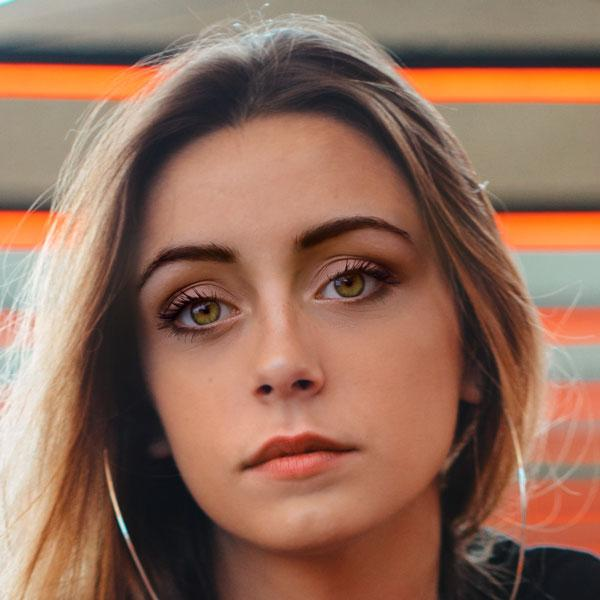Eyes: (299, 251, 404, 319), (157, 274, 251, 348)
